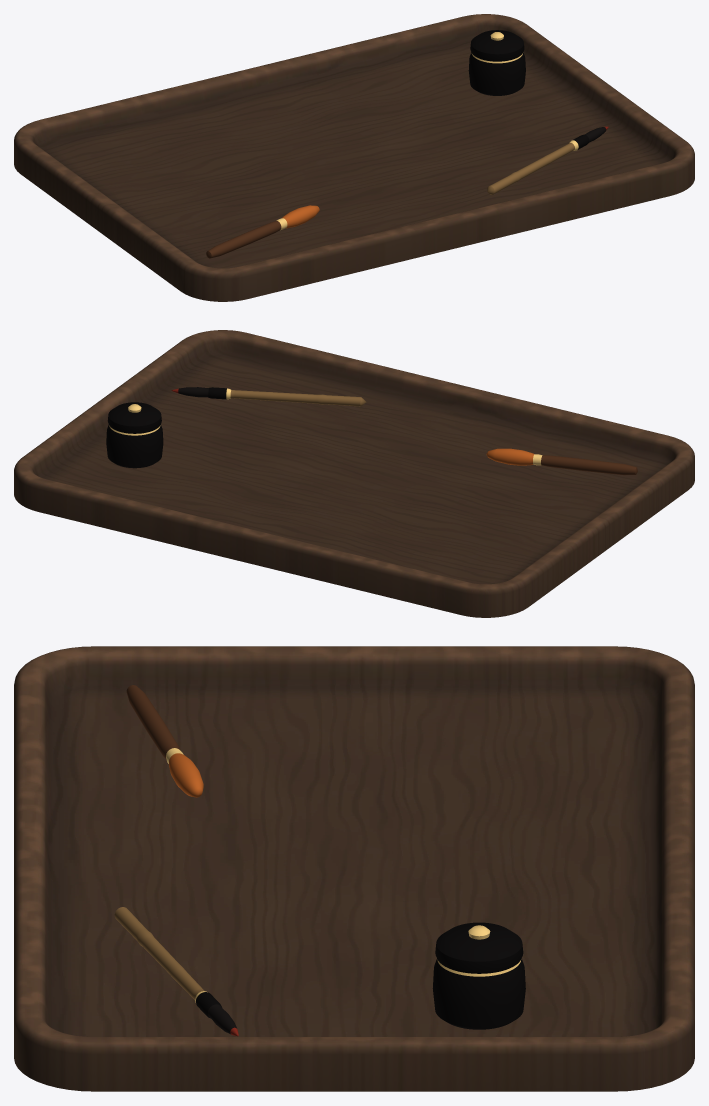
The model's file is tray_tools.glb.
3 views of the same model, one above another, from view 1: azimuth 30°, elevation 25°; view 2: azimuth 150°, elevation 25°; view 3: azimuth 270°, elevation 25° (orthographic). The views are drawn at different scales.
Parts seen in each view (by area): view 1: tray, jar, burnisher, jar_lid, brush; view 2: tray, jar, burnisher, brush, jar_lid; view 3: tray, jar, jar_lid, brush, burnisher.
Boxes of the visible parts, x1,y1,x2,y2 form: tray: (14, 14, 694, 301); jar: (468, 52, 525, 95); burnisher: (206, 205, 319, 258); jar_lid: (470, 30, 524, 61); brush: (487, 126, 608, 194); tray: (14, 330, 694, 617); jar: (106, 424, 163, 468); burnisher: (486, 448, 637, 475); brush: (171, 387, 366, 406); jar_lid: (107, 402, 161, 433); tray: (14, 646, 694, 1091); jar: (432, 958, 525, 1029); jar_lid: (435, 922, 523, 973); brush: (114, 907, 238, 1036); burnisher: (126, 685, 203, 797).
Bounding box in the file's own units: 0.42 × 0.0516 × 0.3.
8 materials, 1 textured.
